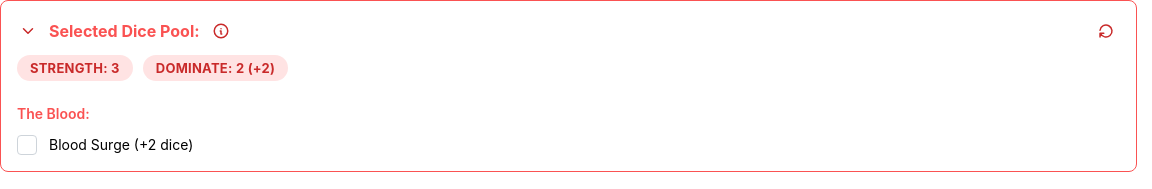
SelectedDicePoolDisplay › shows blood potency discipline bonus on selected discipline badges
Hover over the element showing "Dominate: 2 (+2)" at (216, 68), box left=143, top=55, right=288, bottom=81
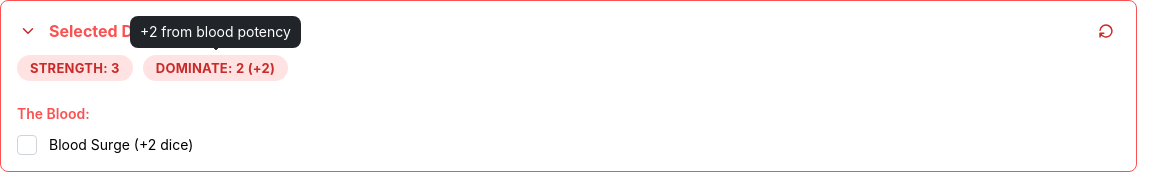
expect the tooltip "+2 from blood potency" is shown: met, box left=130, top=16, right=301, bottom=48
